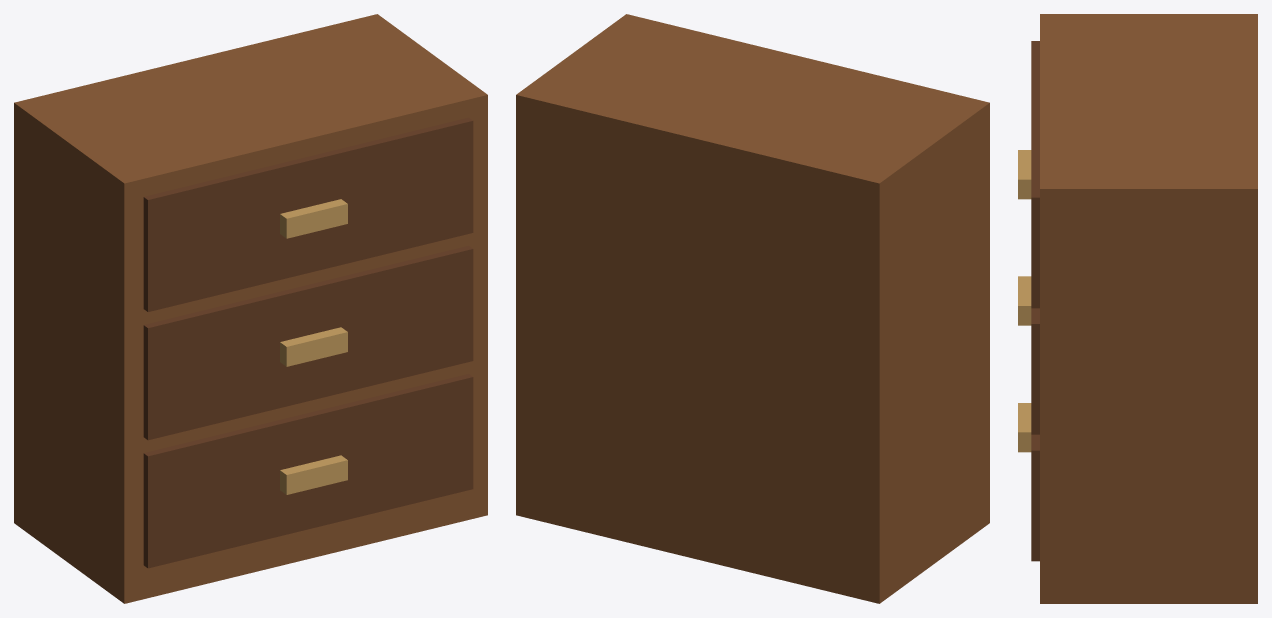
File: f_dresser.glb
The picture shows the model from 3 angles, left to right: view 1: azimuth 30°, elevation 25°; view 2: azimuth 150°, elevation 25°; view 3: azimuth 270°, elevation 25°; orthographic projection.
Parts seen in each view (by area): view 1: dresser; view 2: dresser; view 3: dresser.
Boxes of the visible parts, x1,y1,x2,y2 form: dresser: [14, 14, 487, 603]; dresser: [516, 14, 989, 603]; dresser: [1018, 14, 1257, 603].
Bounding box in the file's own units: 0.95 × 1.05 × 0.55.
